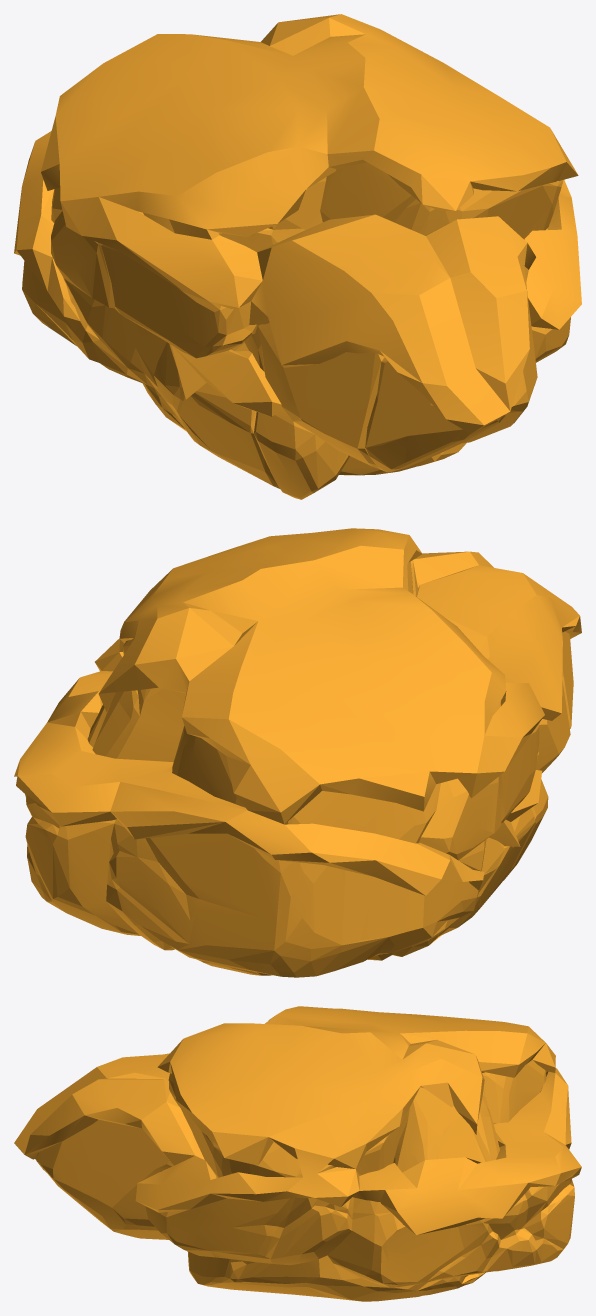
File: SM_Rock_G_Snow.fbx
The picture shows the model from 3 angles, top to bottom: view 1: azimuth 30°, elevation 25°; view 2: azimuth 150°, elevation 25°; view 3: azimuth 270°, elevation 25°; orthographic projection. The views are drawn at different scales.
Visible parts, largest first — view 1: rock-g-snow; view 2: rock-g-snow; view 3: rock-g-snow.
Part boxes in pixels (bbox=[...]): rock-g-snow: bbox=[14, 14, 581, 499]; rock-g-snow: bbox=[14, 528, 581, 977]; rock-g-snow: bbox=[14, 1006, 581, 1301].
Bounding box in the file's own units: 9.4 × 7.19 × 13.73.
